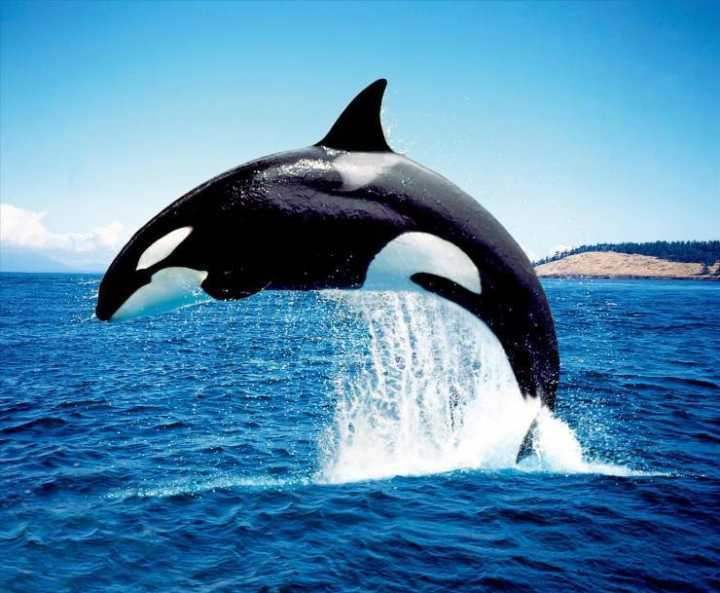fish: (92, 74, 563, 461)
